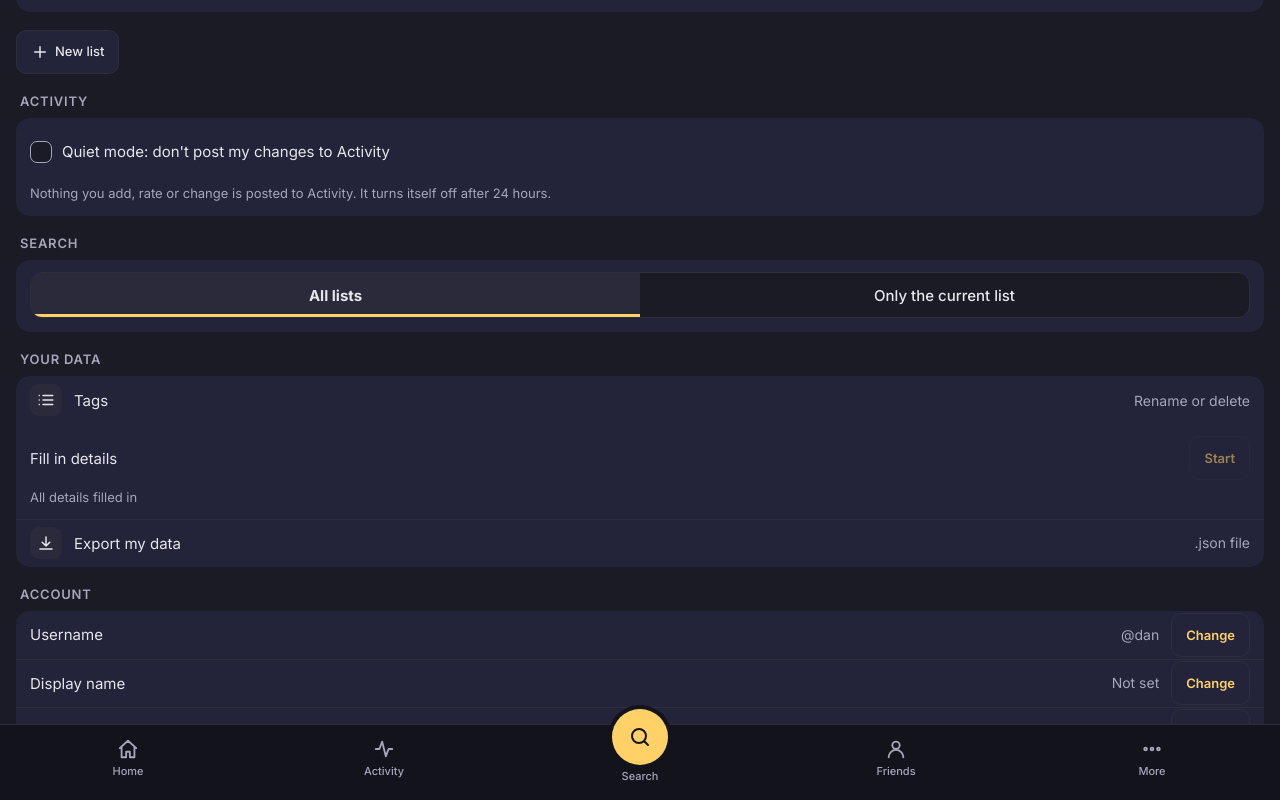
Scenario: Settings > Tags › has a Tags row that opens the list with counts
The width and height of the screenshot is (1280, 800).
(page scrolled)
Click the link "Tags Rename or delete": (46, 400) [16,376,1264,424]
(page scrolled)
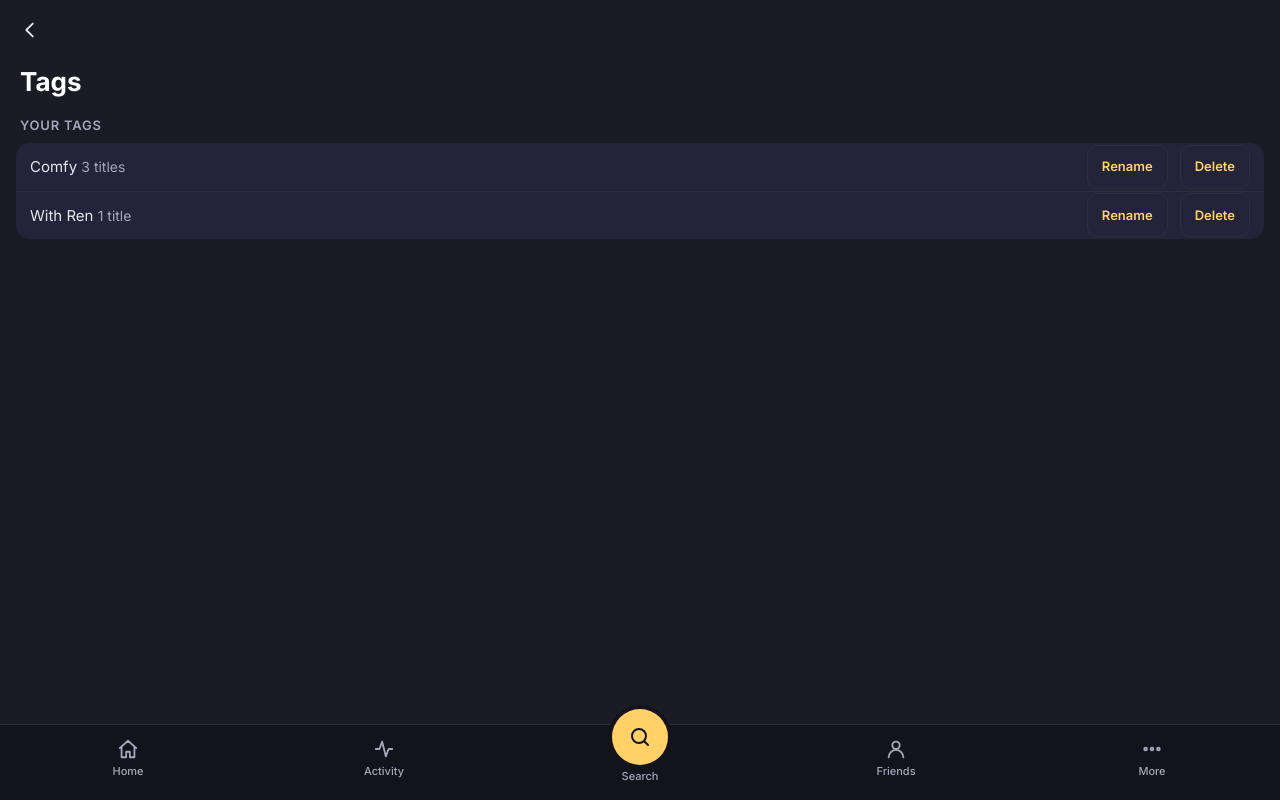
expect the text "Comfy" is shown: met, box [30,157,77,176]
expect the text "3 titles" is shown: met, box [81,158,125,175]
expect the text "1 title" is shown: met, box [98,207,132,224]
